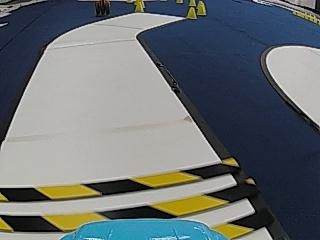bump: (0, 161, 270, 237)
